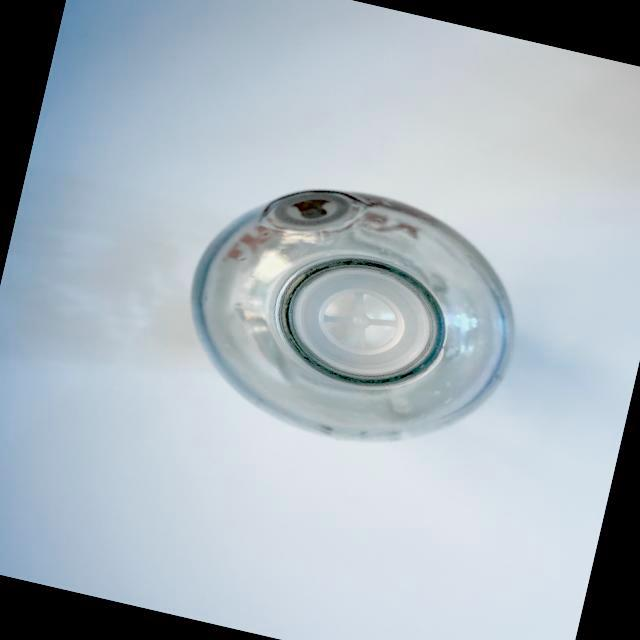glass: (151, 142, 552, 482)
